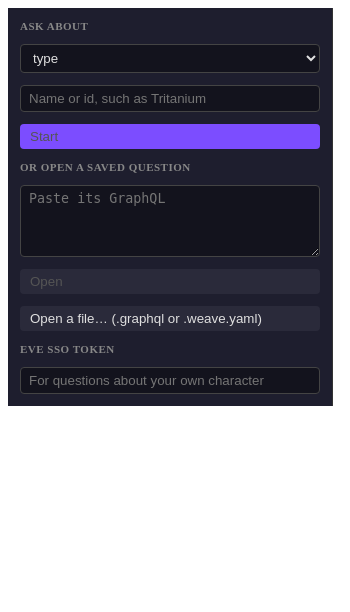
Test: DraftPanel › runs a complete question and shows the answer
In the field labelled "Name or id": (170,98) [20,85,320,112], type "Tritanium"
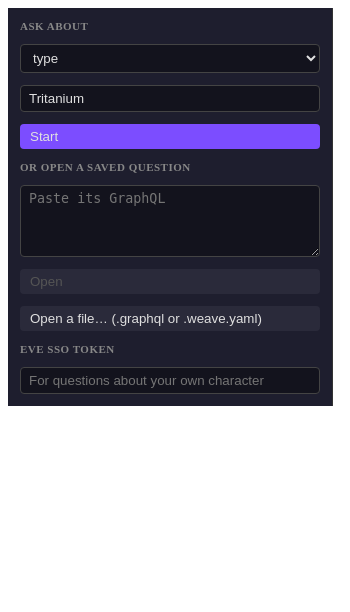
Click the button "Start": (44,136) [20,124,320,149]
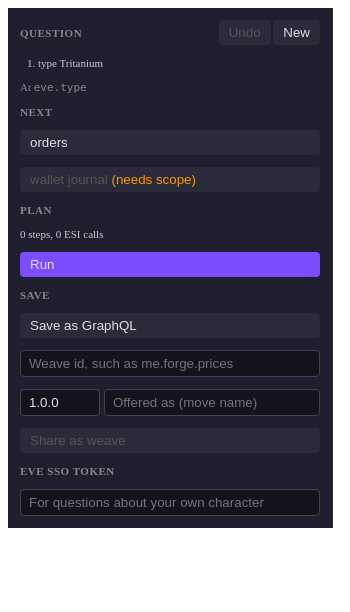
Click the button "Run": (42,264) [20,252,320,277]
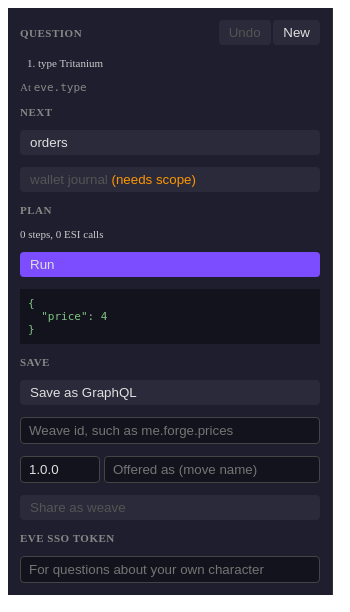
Now the text named "Answer" is shown, box [20,289,320,344]
Now the text named "Answer" shows "\"price\": 4", box [28,297,108,336]
